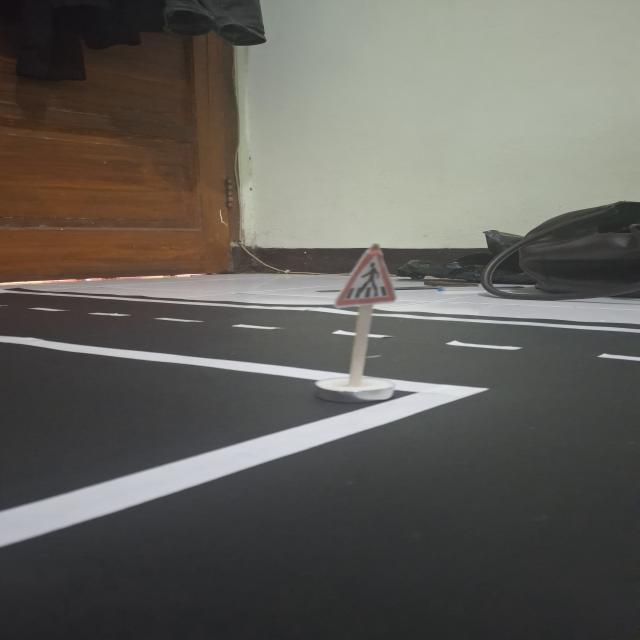Rambu Penyebrangan: (334, 243, 397, 305)
